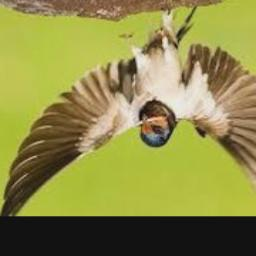Swallow: (0, 8, 256, 216)
